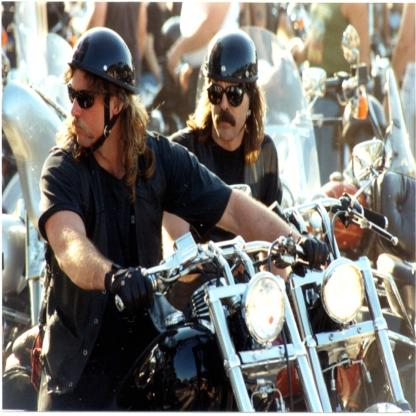Helmet: (73, 22, 142, 156), (201, 26, 261, 135), (340, 90, 386, 156)
